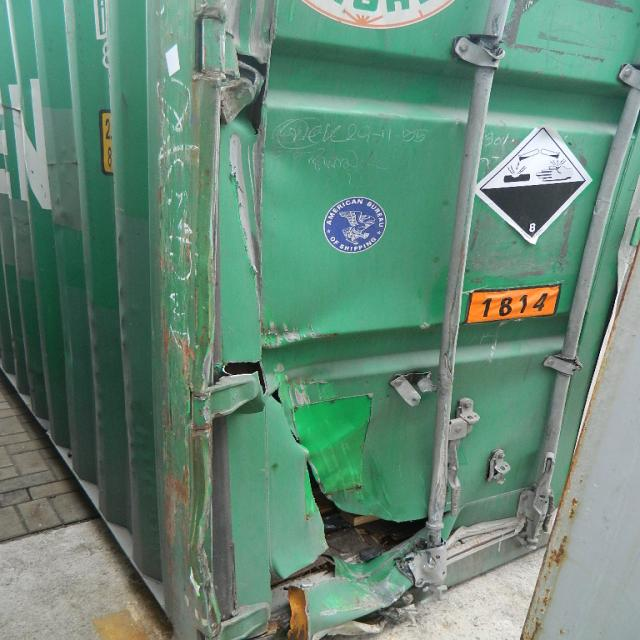dent: (249, 142, 407, 370), (282, 374, 391, 498), (222, 571, 326, 640)
